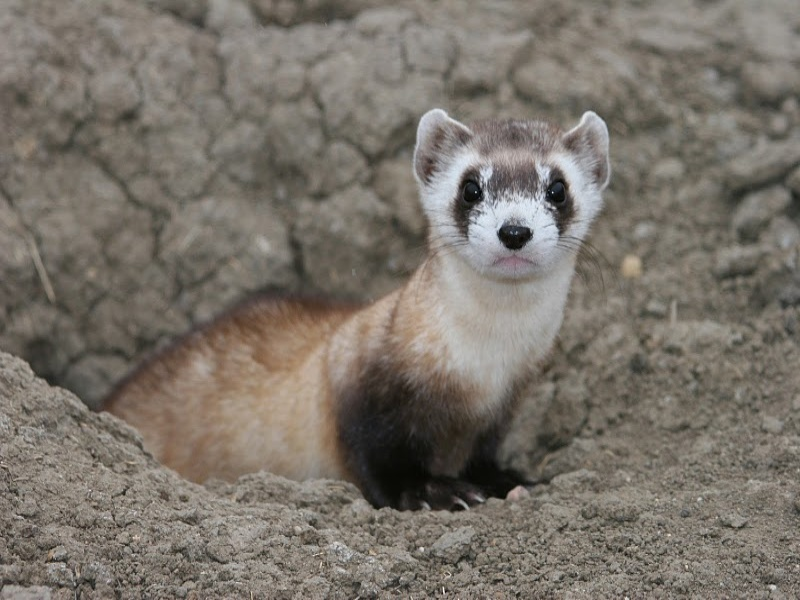minkish: (81, 99, 635, 516)
